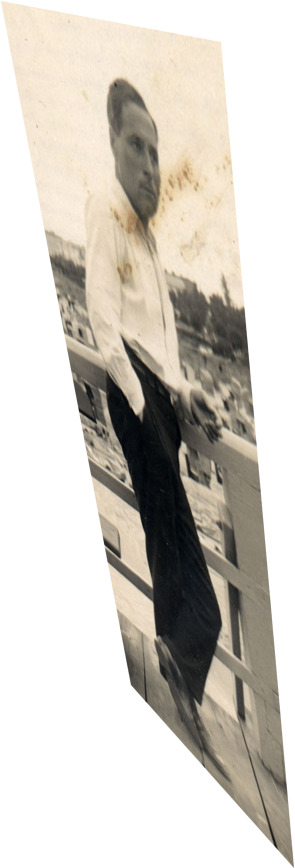face: (106, 77, 162, 221)
